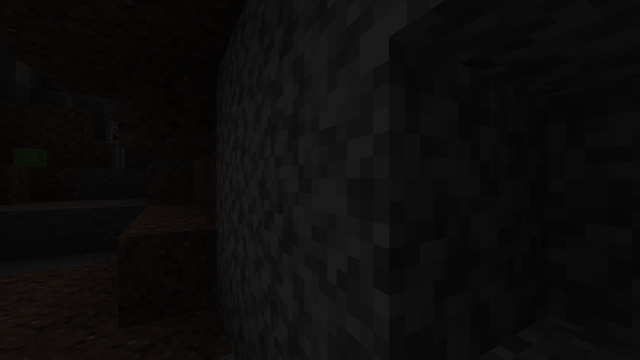slimes: (11, 146, 45, 166)
squelettes: (104, 103, 130, 168)
